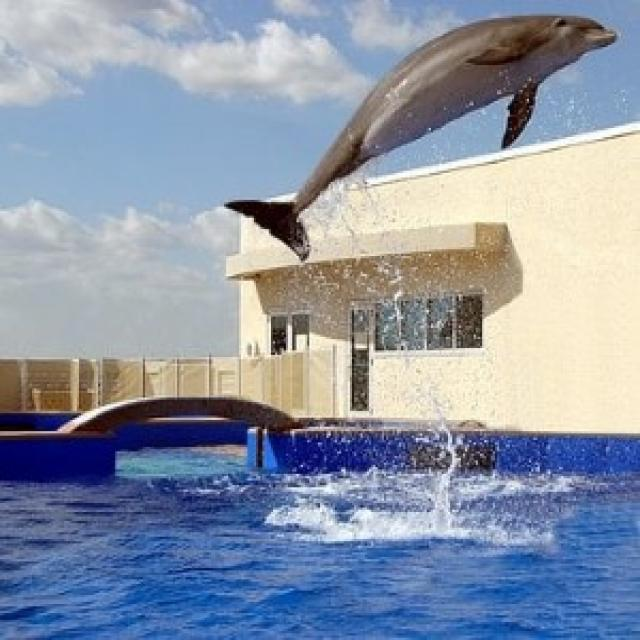Dolphin: (216, 12, 622, 275)
